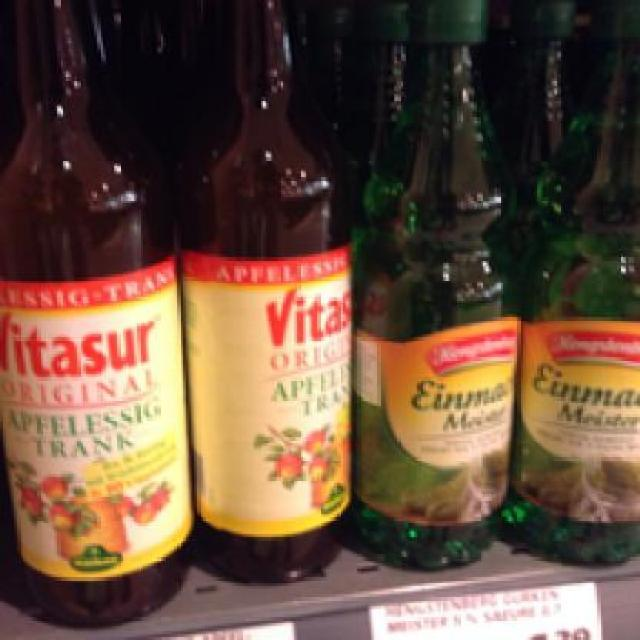Vinegar: (2, 0, 198, 626), (169, 0, 354, 589), (343, 0, 517, 563), (507, 0, 638, 572)
